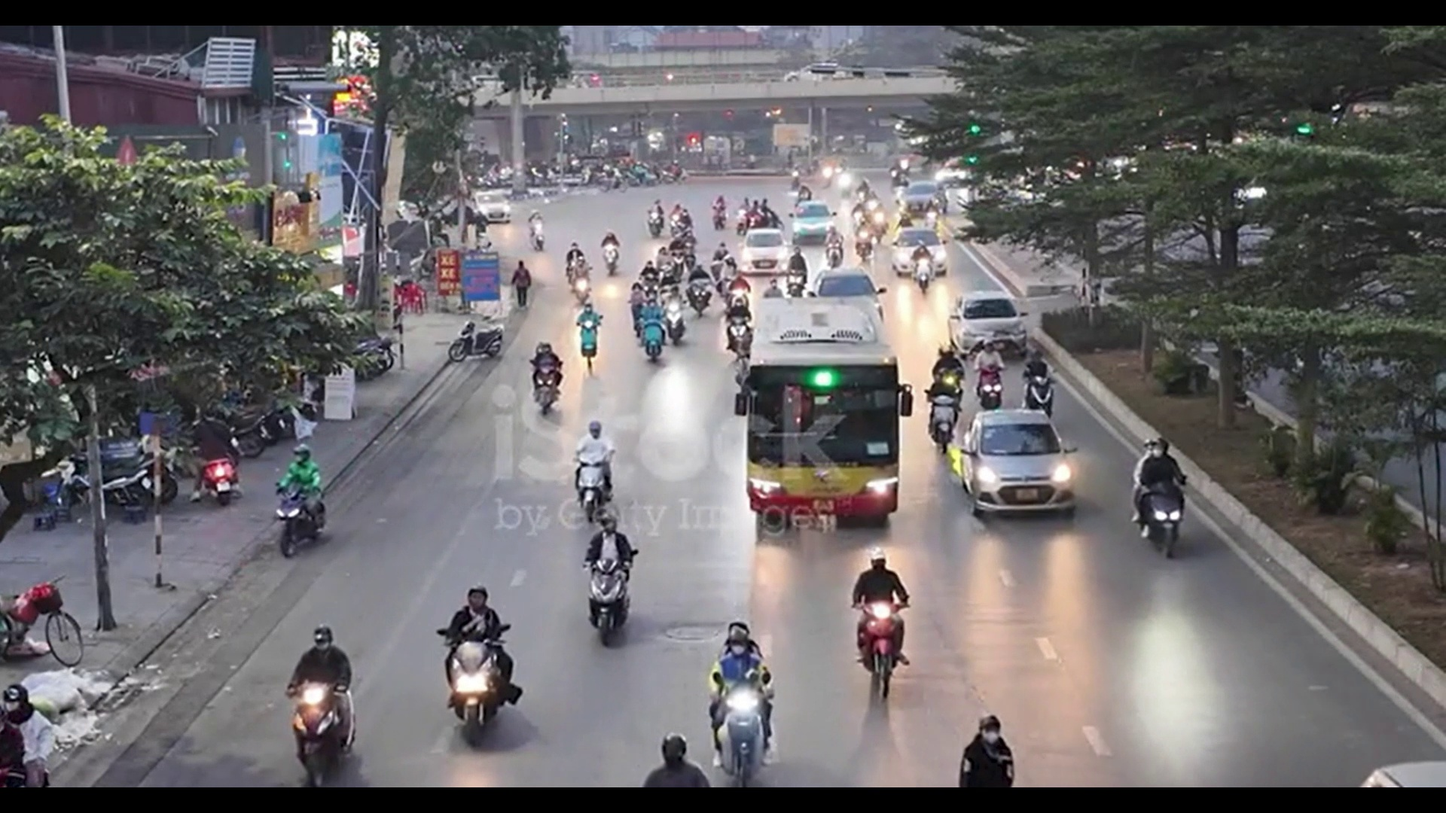car: (947, 407, 1082, 516), (951, 292, 1027, 356), (738, 225, 791, 273)
motorcycle: (443, 639, 521, 745), (0, 579, 87, 669), (288, 676, 357, 786), (707, 679, 775, 785), (585, 544, 635, 647), (1134, 484, 1186, 557), (274, 491, 326, 557), (588, 568, 631, 647), (194, 454, 239, 501), (533, 353, 563, 419)
